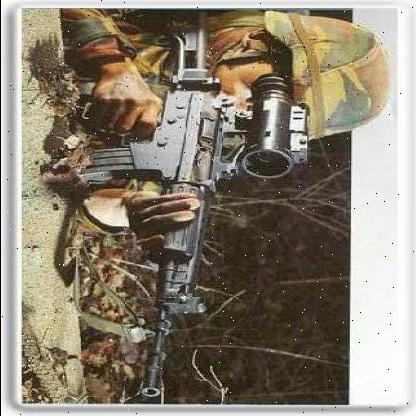rifle: (70, 14, 315, 403)
